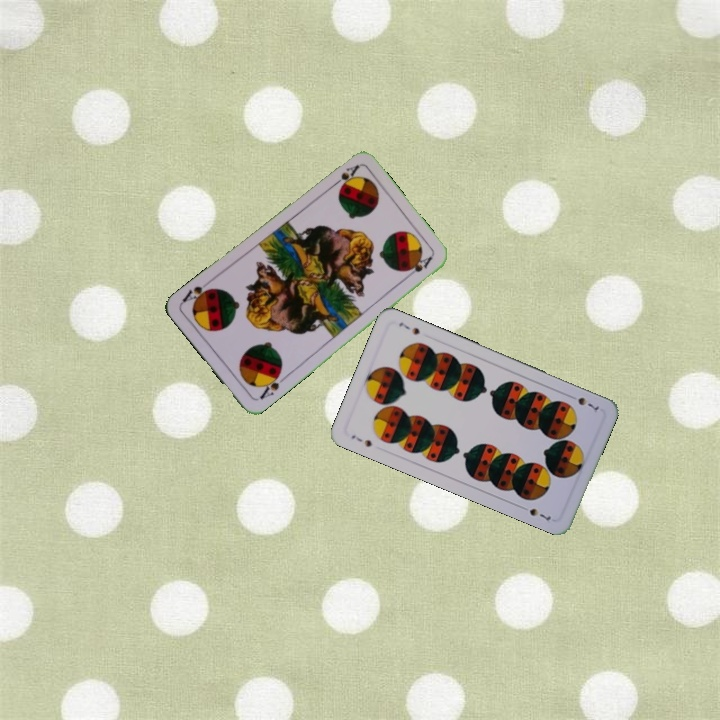S7: (565, 391, 602, 413), (347, 431, 374, 450)
SA: (255, 368, 288, 402), (327, 161, 362, 191)
